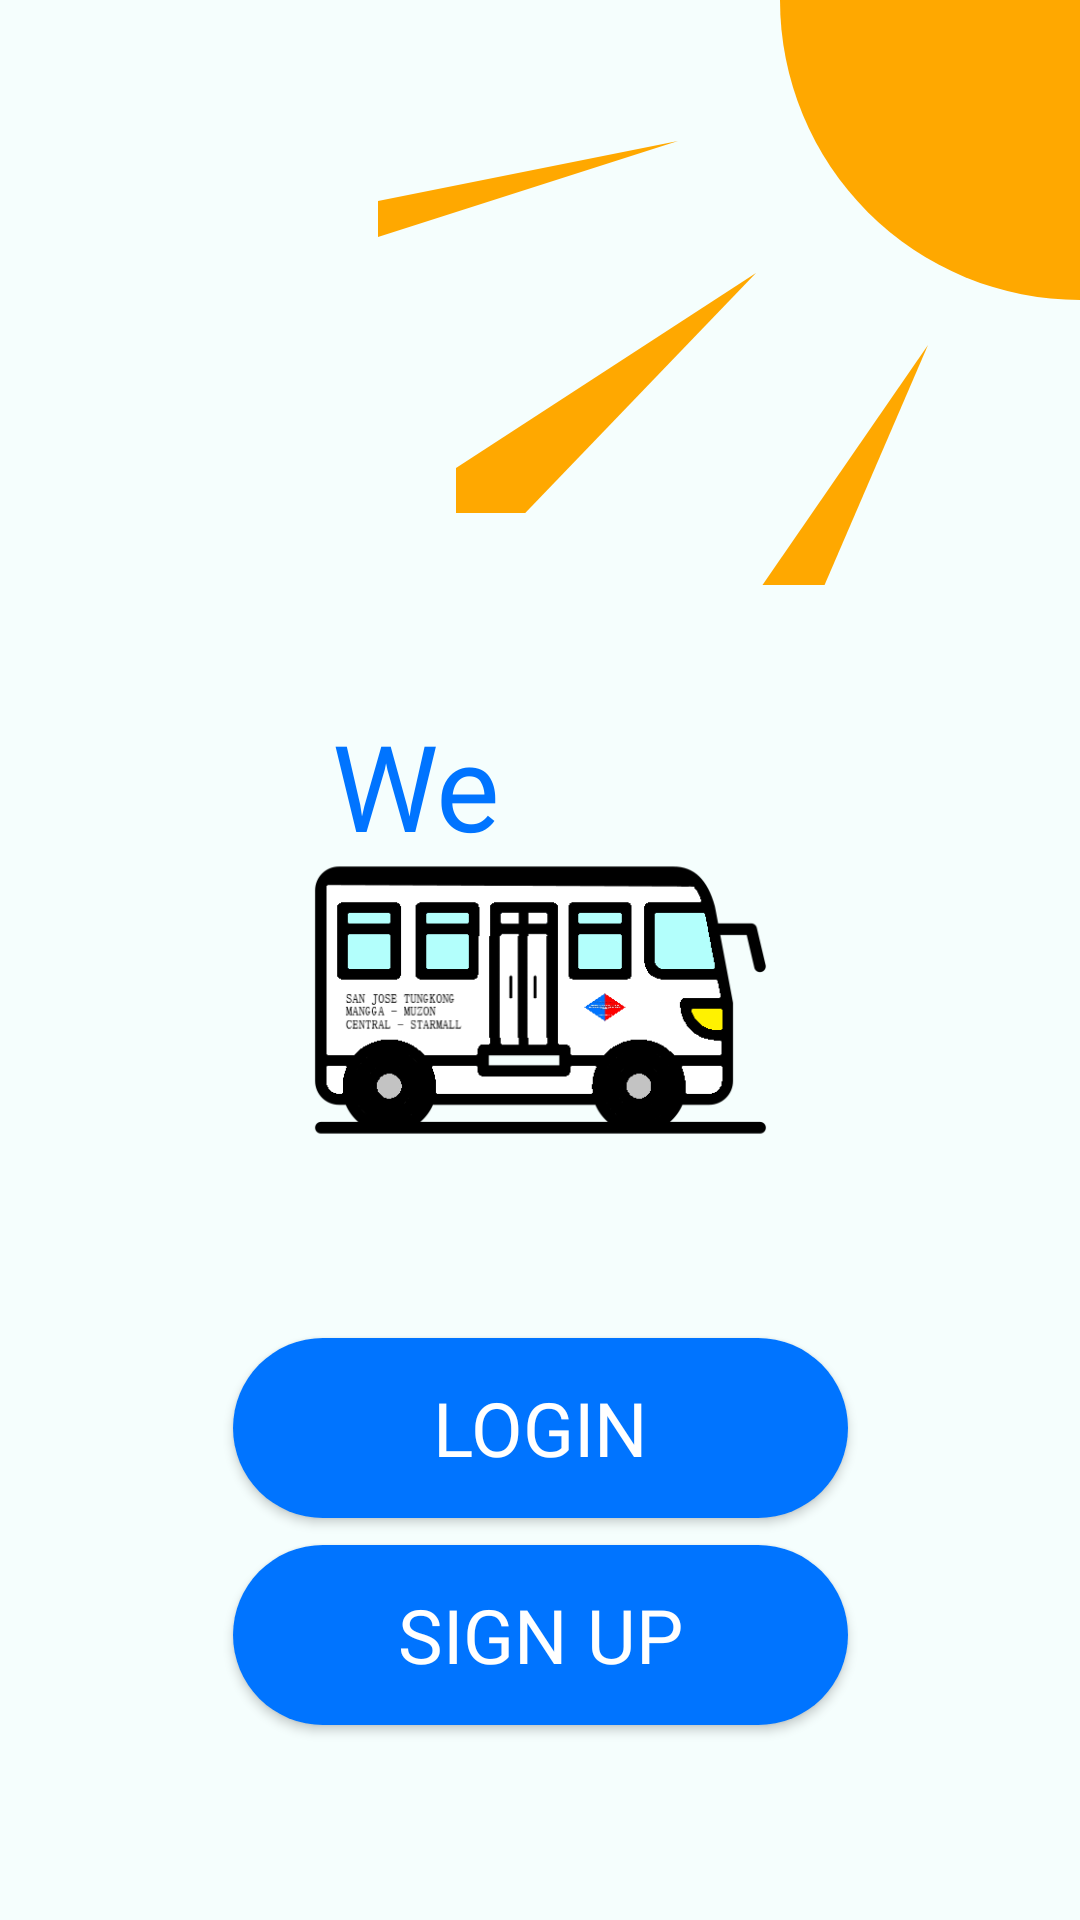

Icon bounding boxes for this 1080w x 1920h phone screenshot, format (x1, y1, x2, y2):
ray: (378, 141, 677, 237), (456, 273, 756, 513), (762, 345, 928, 585)
